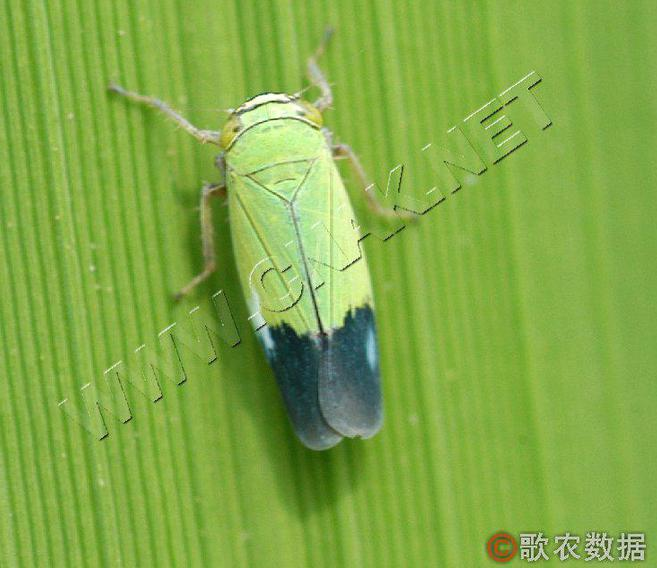pest: (203, 87, 386, 452)
